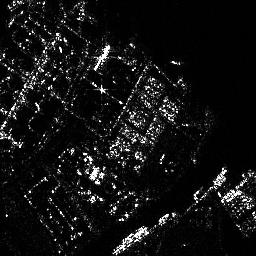ship: (112, 226, 148, 255)
